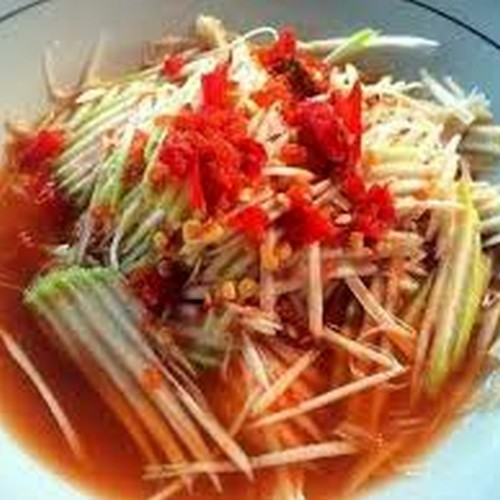rujak buleleng: (18, 53, 462, 473)
